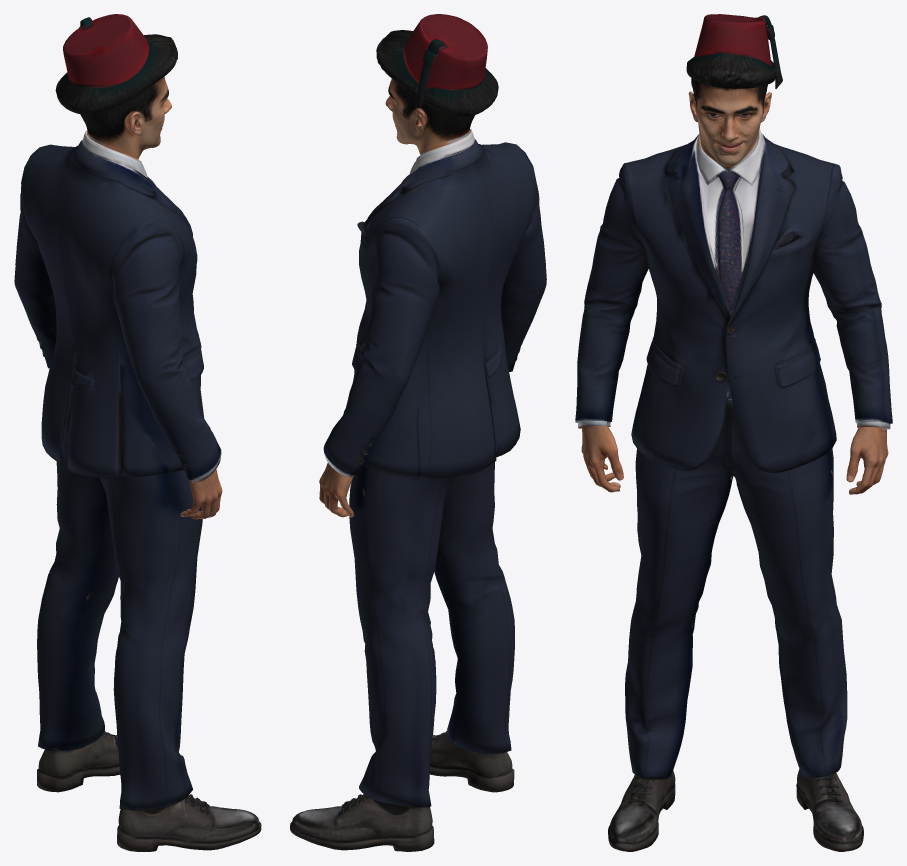
Rendered from egyptian-citizen-highdetail.glb.
3 renders of one model, left to right at view 1: azimuth 30°, elevation 25°; view 2: azimuth 150°, elevation 25°; view 3: azimuth 270°, elevation 25°, orthographic.
Parts seen in each view (by area): view 1: tripo_node_9ecf33ee-8ac7-4c62-8e83-473a9c152ba7; view 2: tripo_node_9ecf33ee-8ac7-4c62-8e83-473a9c152ba7; view 3: tripo_node_9ecf33ee-8ac7-4c62-8e83-473a9c152ba7.
Part boxes in pixels (<box>): tripo_node_9ecf33ee-8ac7-4c62-8e83-473a9c152ba7: <box>14,14,261,851</box>; tripo_node_9ecf33ee-8ac7-4c62-8e83-473a9c152ba7: <box>290,14,546,851</box>; tripo_node_9ecf33ee-8ac7-4c62-8e83-473a9c152ba7: <box>575,14,892,851</box>.
Bounding box in the file's own units: 0.366 × 1.85 × 0.6697.
1 material, 1 textured.
